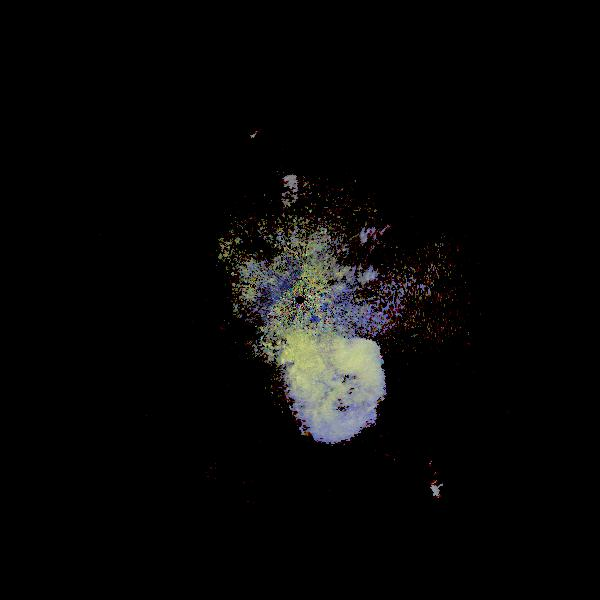roost: (217, 283, 421, 487)
